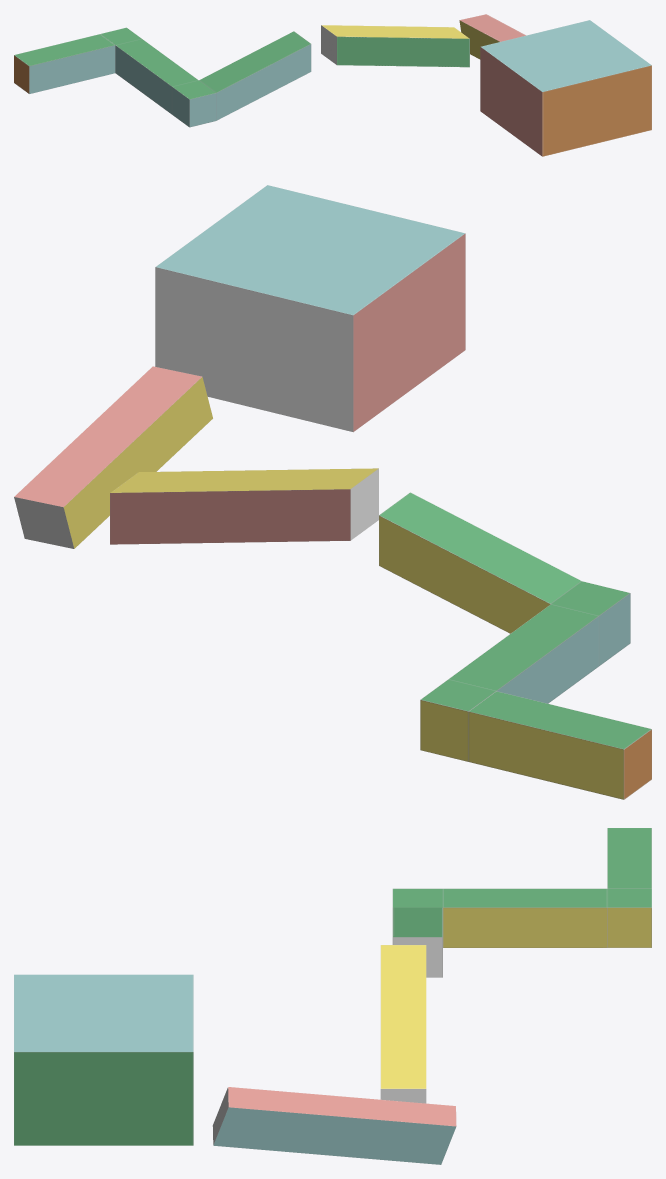
The model's file is cenario.fbx.
3 views of the same model, one above another, from view 1: azimuth 30°, elevation 25°; view 2: azimuth 150°, elevation 25°; view 3: azimuth 270°, elevation 25° (orthographic). The views are drawn at different scales.
Parts seen in each view (by area): view 1: corredor_4, corredor_1, corredor_2, corredor_3; view 2: corredor_4, corredor_1, corredor_2, corredor_3; view 3: corredor_4, corredor_1, corredor_3, corredor_2.
Boxes of the visible parts, box(x1,y1,x2,y2) form: corredor_4: box(480, 20, 651, 156); corredor_1: box(14, 27, 311, 127); corredor_2: box(321, 25, 469, 67); corredor_3: box(459, 14, 525, 59); corredor_4: box(155, 185, 465, 432); corredor_1: box(379, 492, 651, 799); corredor_2: box(110, 468, 378, 544); corredor_3: box(14, 366, 212, 548); corredor_4: box(14, 974, 193, 1145); corredor_1: box(392, 828, 651, 977); corredor_3: box(212, 1087, 456, 1164); corredor_2: box(380, 945, 426, 1103).
Size of the model in its own units: 290 by 56.09 by 265.
5 materials, 5 textured.
